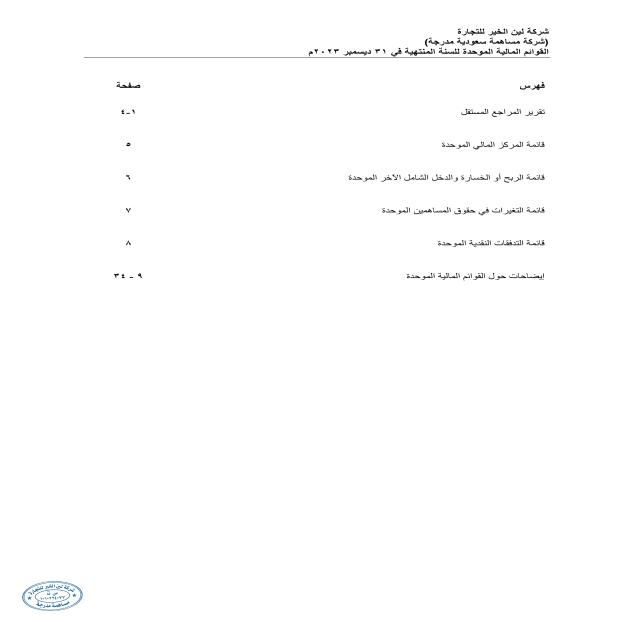other: (97, 73, 554, 319)
